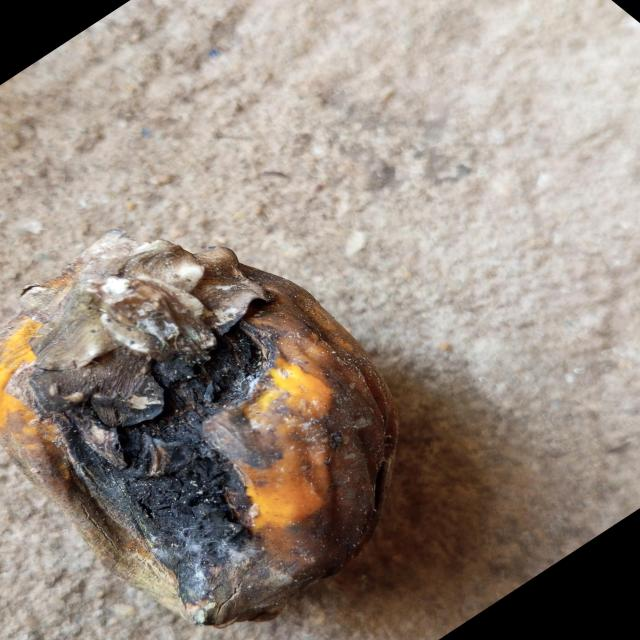damaged: (0, 230, 397, 627)
